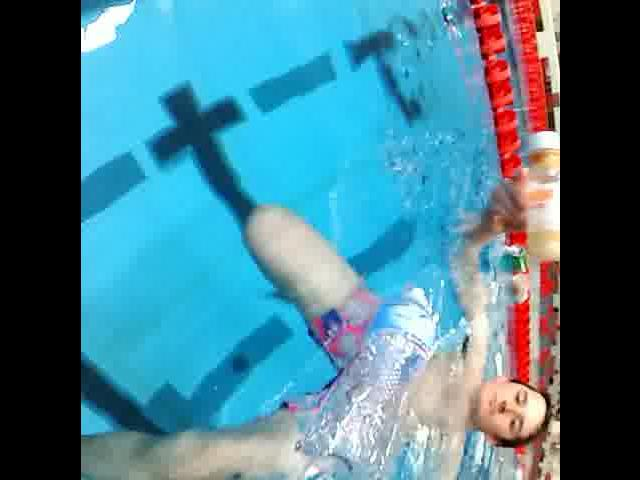Bottle: (513, 121, 560, 267)
